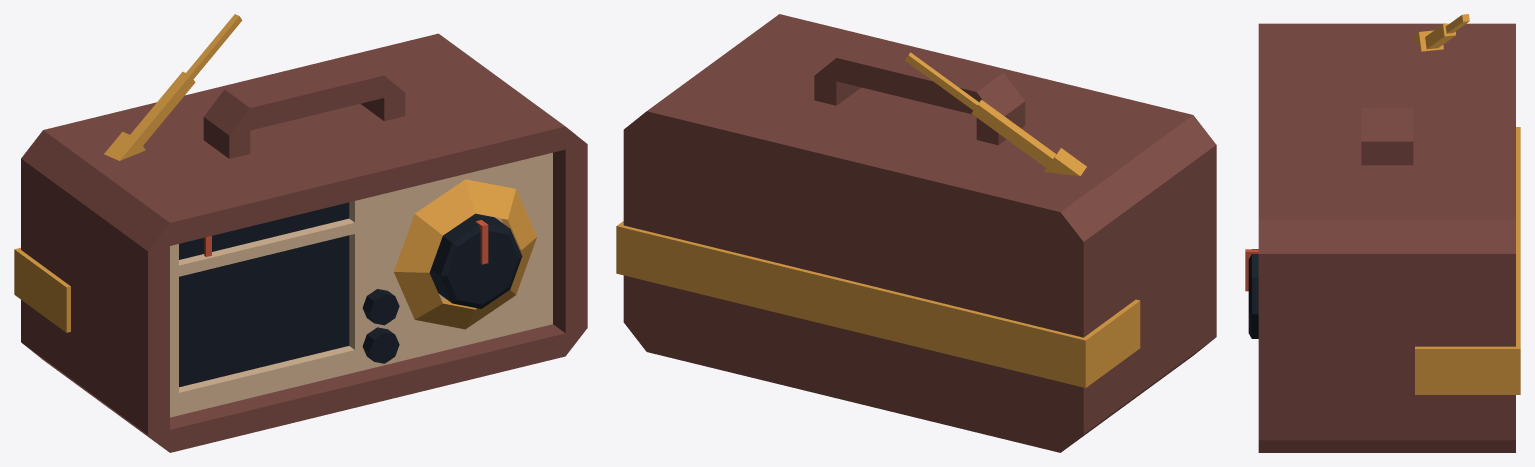
File: Radio.fbx
3 renders of one model, left to right at view 1: azimuth 30°, elevation 25°; view 2: azimuth 150°, elevation 25°; view 3: azimuth 270°, elevation 25°, orthographic. The views are drawn at different scales.
Visible parts, largest first — view 1: Radio, Radio Dial; view 2: Radio; view 3: Radio, Radio Dial.
Boxes of the visible parts, box(x1,y1,x2,y2) form: Radio: box(14, 14, 587, 452); Radio Dial: box(429, 213, 522, 308); Radio: box(616, 14, 1216, 452); Radio: box(1258, 14, 1520, 452); Radio Dial: box(1245, 249, 1258, 338).
Size of the model in its own units: 204 by 140 by 107.
1 material, 1 textured.
